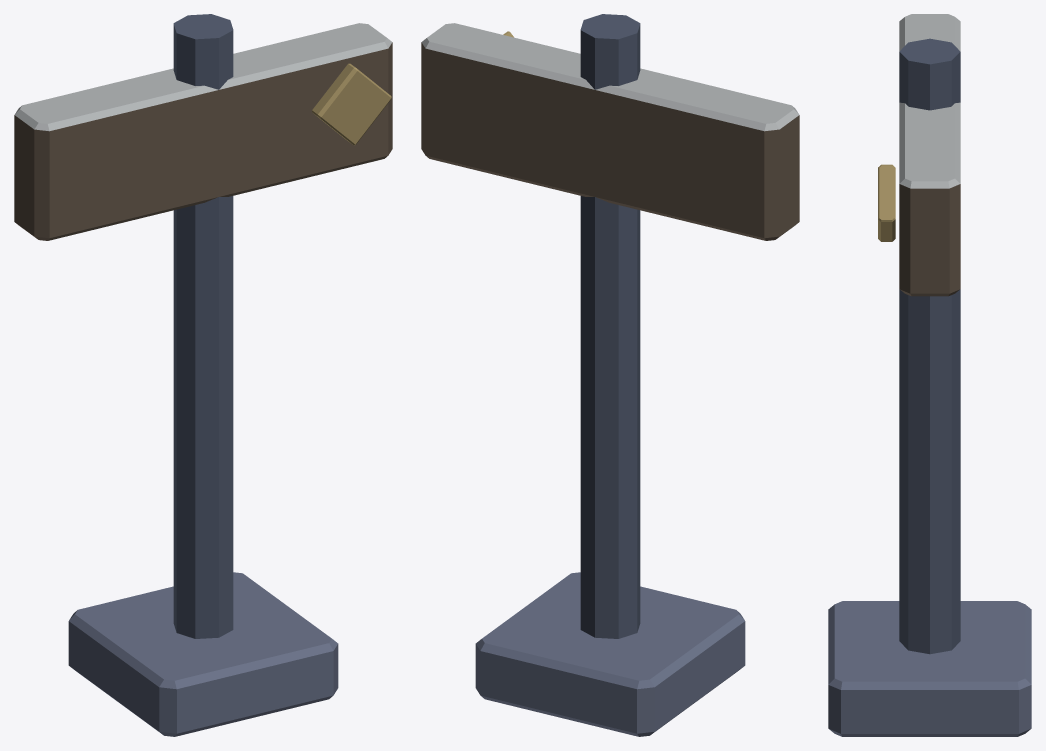
File: waymarker.glb
3 views of the same model, side by side, from view 1: azimuth 30°, elevation 25°; view 2: azimuth 150°, elevation 25°; view 3: azimuth 270°, elevation 25° (orthographic).
Parts seen in each view (by area): view 1: waymarker__body; view 2: waymarker__body; view 3: waymarker__body.
Boxes of the visible parts, bbox=[...] form: waymarker__body: bbox=[14, 14, 392, 736]; waymarker__body: bbox=[421, 14, 799, 736]; waymarker__body: bbox=[828, 14, 1031, 736].
Bounding box in the file's own units: 0.8 × 1.4 × 0.4.
